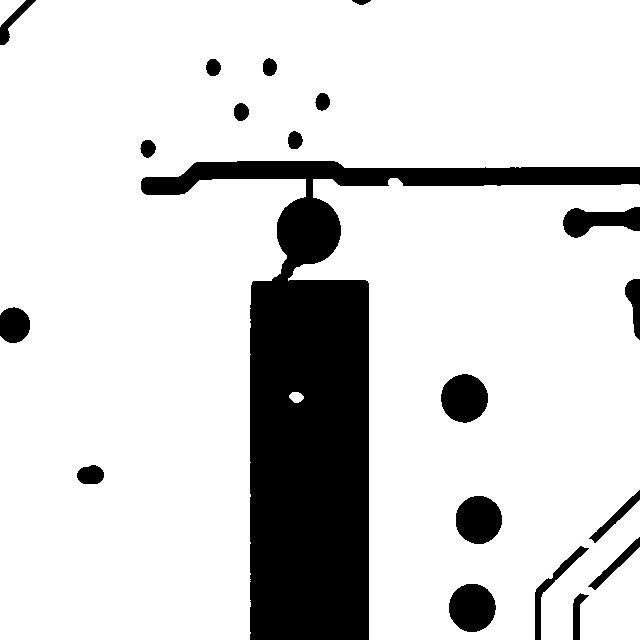copper: (67, 455, 113, 493)
mousebite: (378, 168, 412, 197), (538, 563, 562, 588)
open: (569, 529, 604, 558), (569, 577, 604, 604)
pin-hole: (279, 382, 313, 412)
short: (262, 244, 314, 294), (296, 165, 322, 210)
